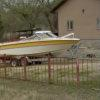Boat: (2, 25, 80, 61)
